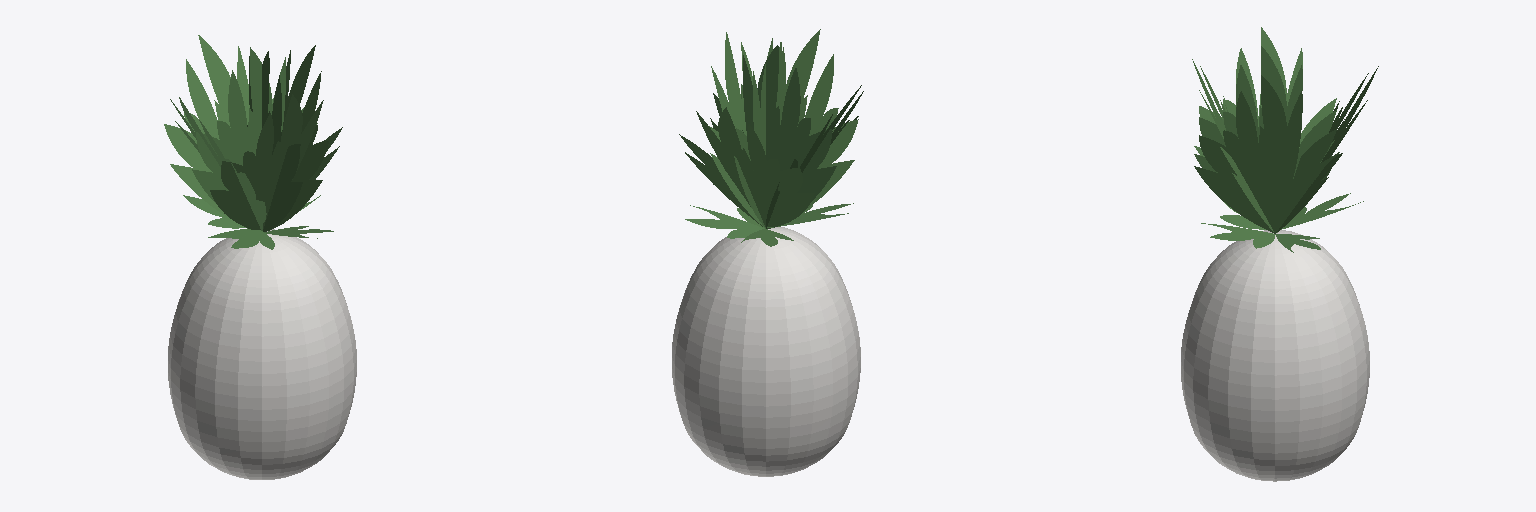
Rendered from pina.obj.
3 renders of one model, left to right at view 1: azimuth 30°, elevation 25°; view 2: azimuth 150°, elevation 25°; view 3: azimuth 270°, elevation 25°, orthographic.
Visible parts, largest first — view 1: Mesh1 Model, Mesh2 Model, Mesh4 Model, Mesh3 Model, Mesh7 Model, Mesh5 Model, Mesh6 Model, Mesh8 Model; view 2: Mesh1 Model, Mesh4 Model, Mesh3 Model, Mesh2 Model, Mesh7 Model, Mesh5 Model, Mesh6 Model, Mesh10 Model; view 3: Mesh1 Model, Mesh7 Model, Mesh5 Model, Mesh6 Model, Mesh4 Model, Mesh2 Model, Mesh9 Model, Mesh8 Model.
Part boxes in pixels (bbox=[...]): Mesh1 Model: bbox=[168, 229, 356, 479]; Mesh2 Model: bbox=[210, 94, 342, 229]; Mesh4 Model: bbox=[164, 35, 273, 216]; Mesh3 Model: bbox=[192, 47, 317, 202]; Mesh7 Model: bbox=[266, 45, 328, 231]; Mesh5 Model: bbox=[247, 51, 302, 231]; Mesh6 Model: bbox=[170, 97, 274, 249]; Mesh8 Model: bbox=[183, 195, 245, 228]; Mesh1 Model: bbox=[672, 227, 860, 476]; Mesh4 Model: bbox=[679, 107, 814, 228]; Mesh3 Model: bbox=[710, 45, 836, 201]; Mesh2 Model: bbox=[741, 29, 858, 207]; Mesh7 Model: bbox=[709, 32, 764, 227]; Mesh5 Model: bbox=[734, 38, 803, 227]; Mesh6 Model: bbox=[765, 85, 863, 228]; Mesh10 Model: bbox=[685, 205, 763, 238]; Mesh1 Model: bbox=[1181, 230, 1369, 481]; Mesh7 Model: bbox=[1194, 75, 1339, 233]; Mesh5 Model: bbox=[1194, 46, 1336, 178]; Mesh6 Model: bbox=[1194, 27, 1336, 232]; Mesh4 Model: bbox=[1276, 66, 1378, 232]; Mesh2 Model: bbox=[1192, 59, 1273, 231]; Mesh9 Model: bbox=[1201, 223, 1274, 248]; Mesh8 Model: bbox=[1282, 193, 1363, 228].
Size of the model in its own units: 6.68 by 15.77 by 6.68.